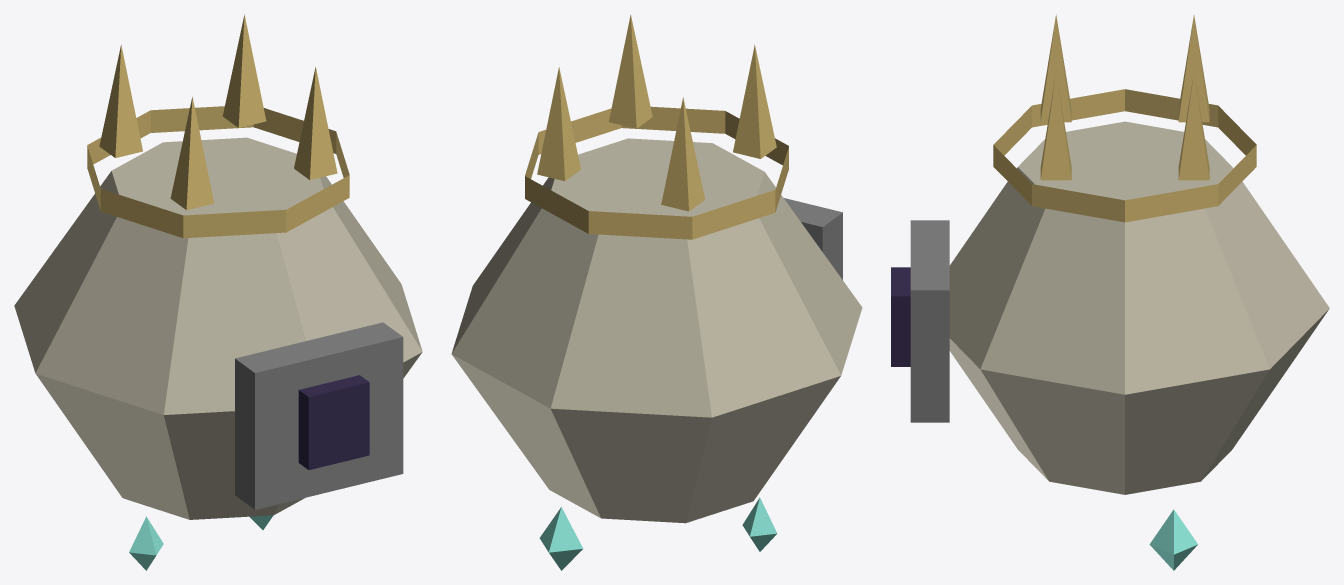
Rendered from seer.obj.
The picture shows the model from 3 angles, left to right: view 1: azimuth 30°, elevation 25°; view 2: azimuth 150°, elevation 25°; view 3: azimuth 270°, elevation 25°; orthographic projection. The views are drawn at different scales.
Parts seen in each view (by area): view 1: seer; view 2: seer; view 3: seer.
Part boxes in pixels (box(x1,y1,x2,y2)): seer: box(14, 14, 422, 570); seer: box(451, 14, 862, 570); seer: box(891, 14, 1329, 570).
Size of the model in its own units: 0.84 by 1.12 by 0.9.
